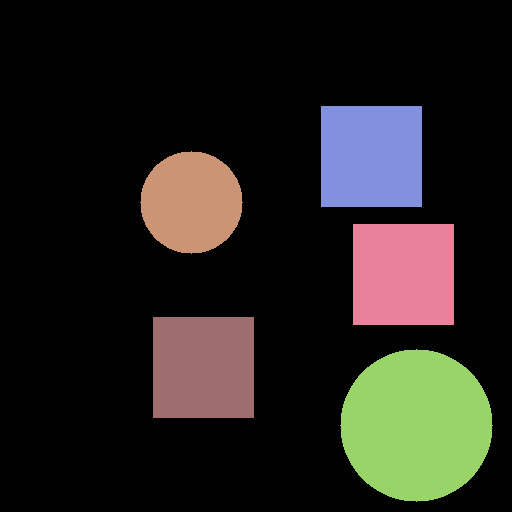circle: (340, 349, 492, 501), (140, 151, 242, 253)
square: (153, 317, 253, 417), (353, 224, 453, 324), (321, 106, 421, 206)
